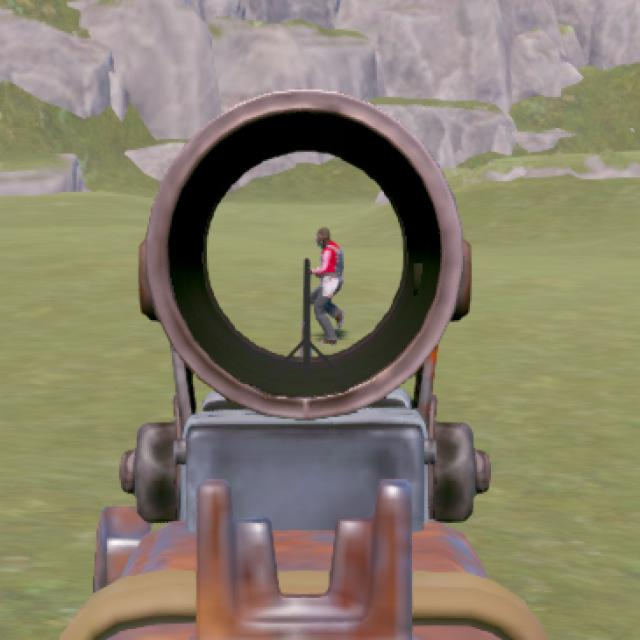Player: (311, 225, 346, 343)
